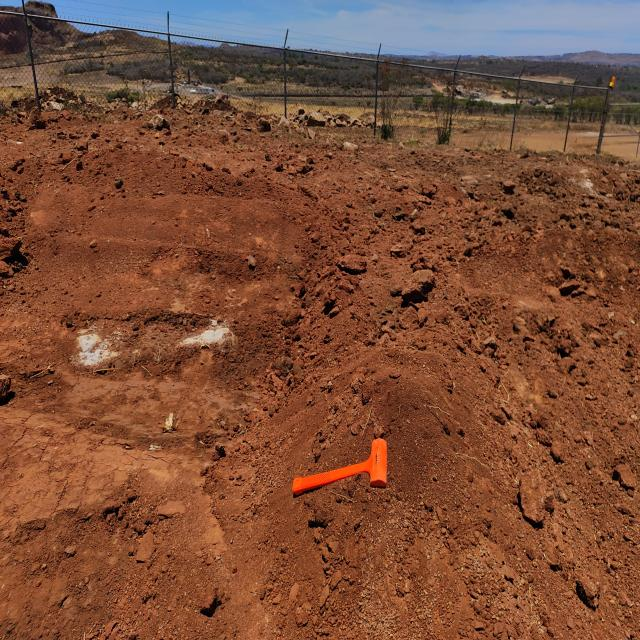Orange_hammer: (291, 437, 388, 497)
